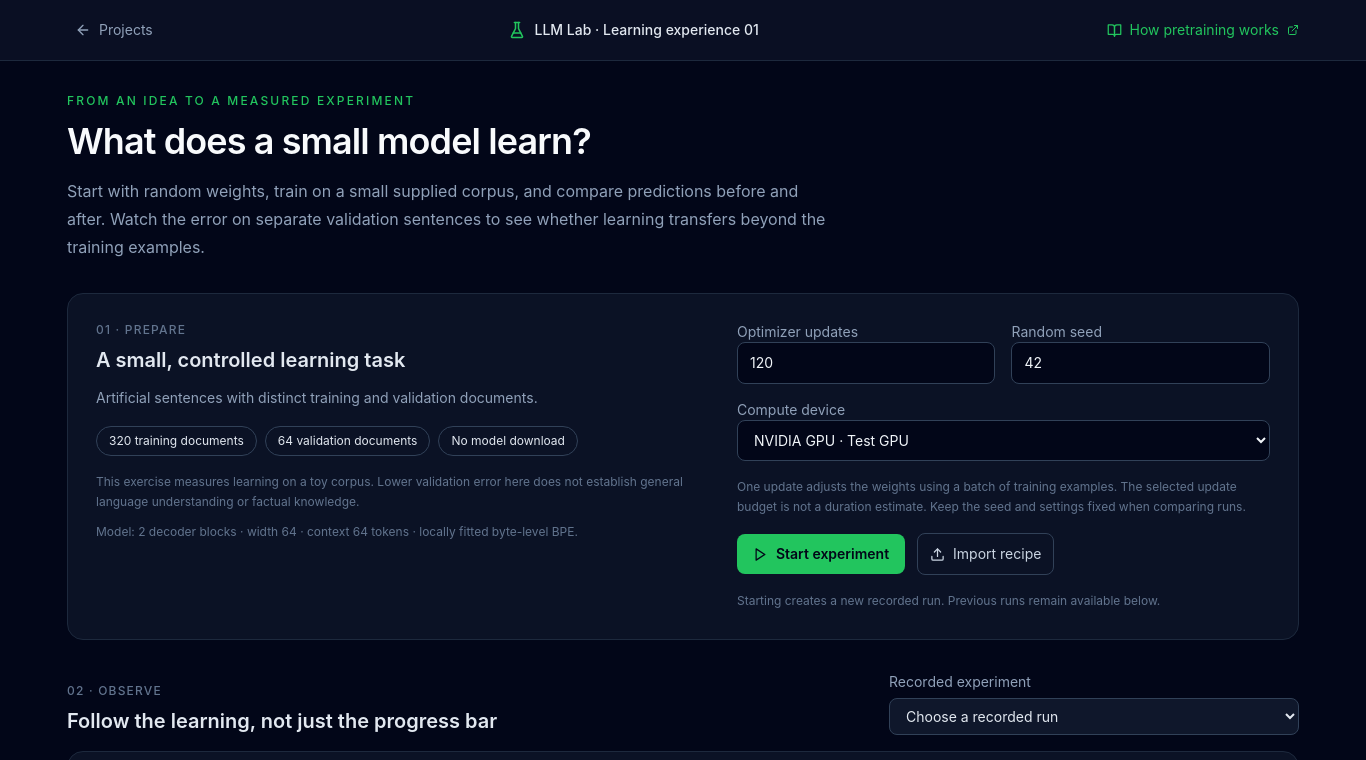
Scenario: Guided learning experience › shows server errors and retains the experience instead of claiming a run started
The image size is (1366, 760).
Click the button "Start experiment" at (821, 554), box 737,534 -> 905,574
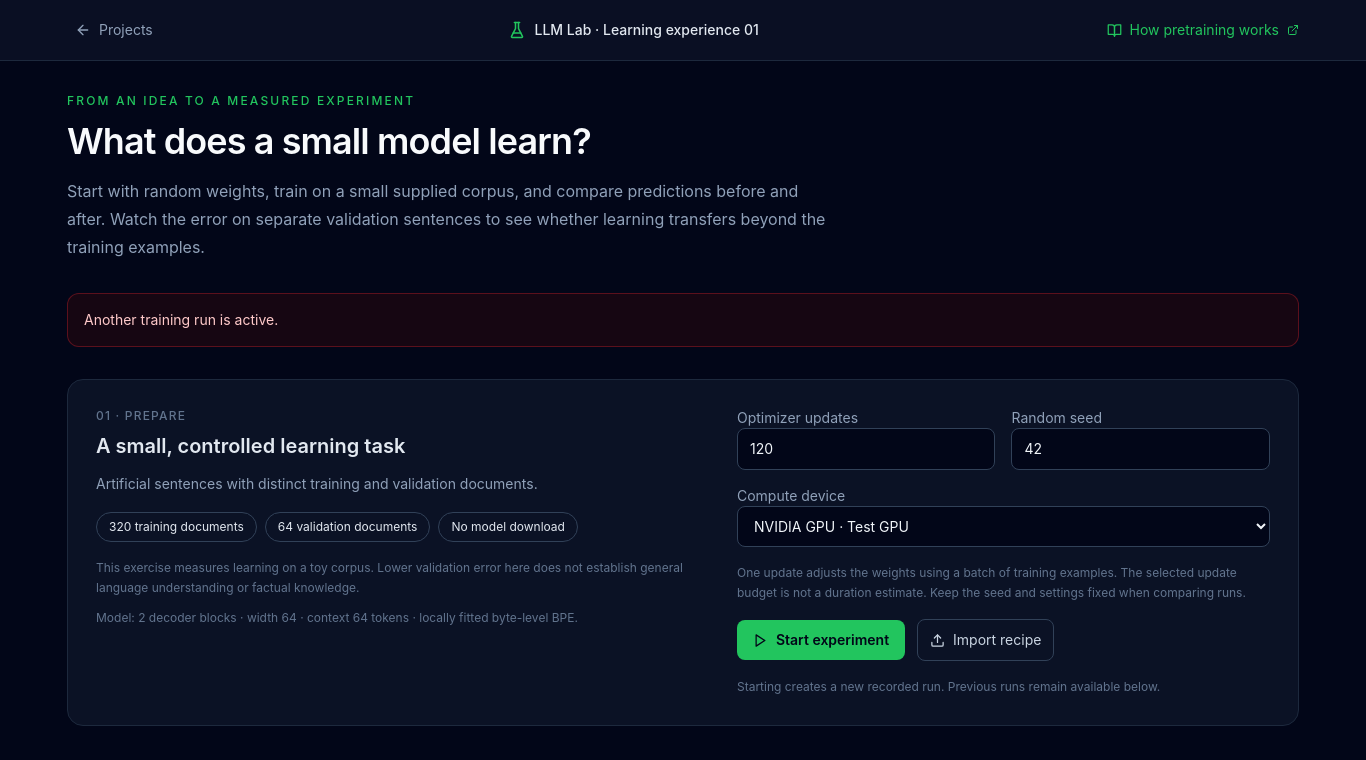
Now the message reads "Another training run is active.", box 84,311 -> 278,328
